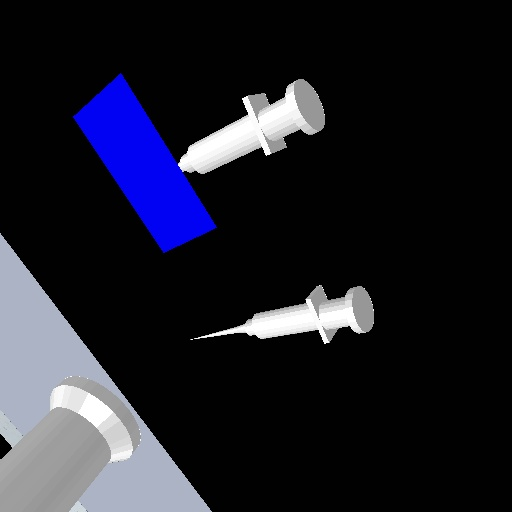jeringuilla: (174, 76, 331, 178), (188, 281, 381, 350)
